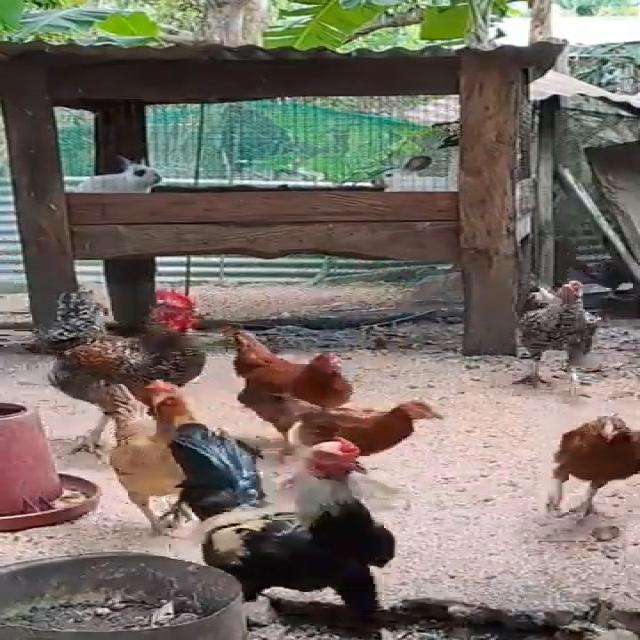running: (194, 430, 394, 596), (37, 280, 215, 450), (89, 382, 222, 529), (226, 339, 376, 438), (538, 413, 640, 529)
